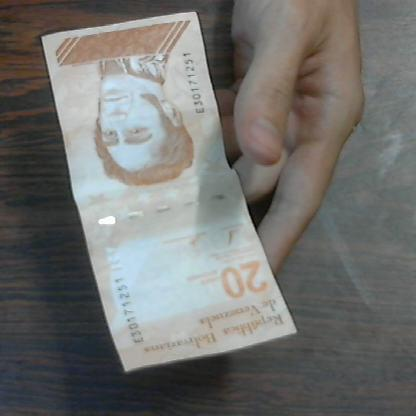twenty-front-vef: (11, 0, 344, 371)
